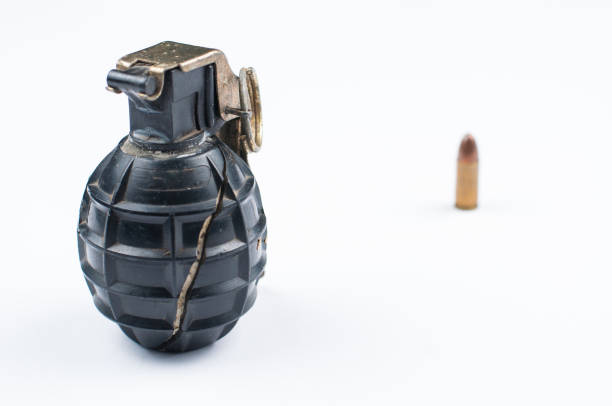e1: (74, 40, 269, 354)
